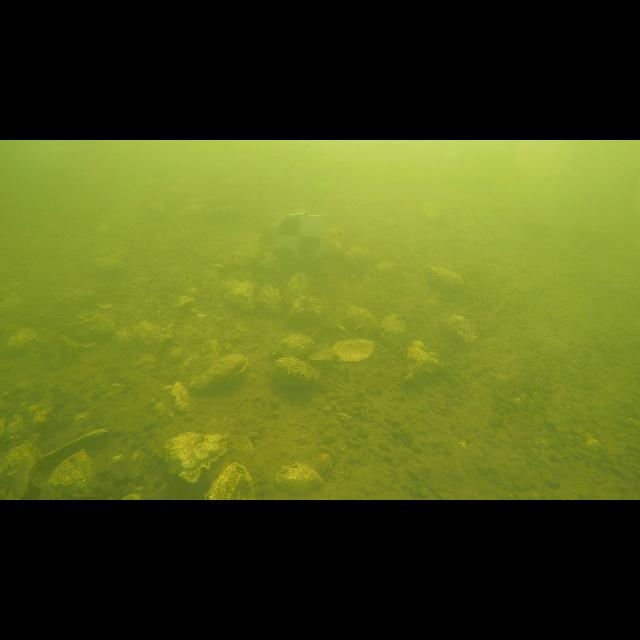Oyster-Closed: (35, 446, 101, 500), (164, 432, 232, 482), (0, 434, 41, 499), (316, 305, 381, 344), (190, 354, 249, 390), (178, 336, 222, 381), (205, 462, 255, 500), (115, 321, 172, 348), (405, 340, 441, 381), (276, 464, 324, 494), (275, 356, 319, 386), (289, 296, 324, 328), (426, 265, 464, 294), (224, 279, 254, 310), (445, 315, 478, 342), (380, 315, 406, 343), (259, 285, 281, 315), (255, 246, 280, 271), (288, 272, 309, 300)
Oyster-Open: (36, 426, 113, 468), (309, 339, 375, 361)
